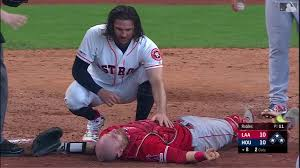fall: (71, 106, 260, 166)
